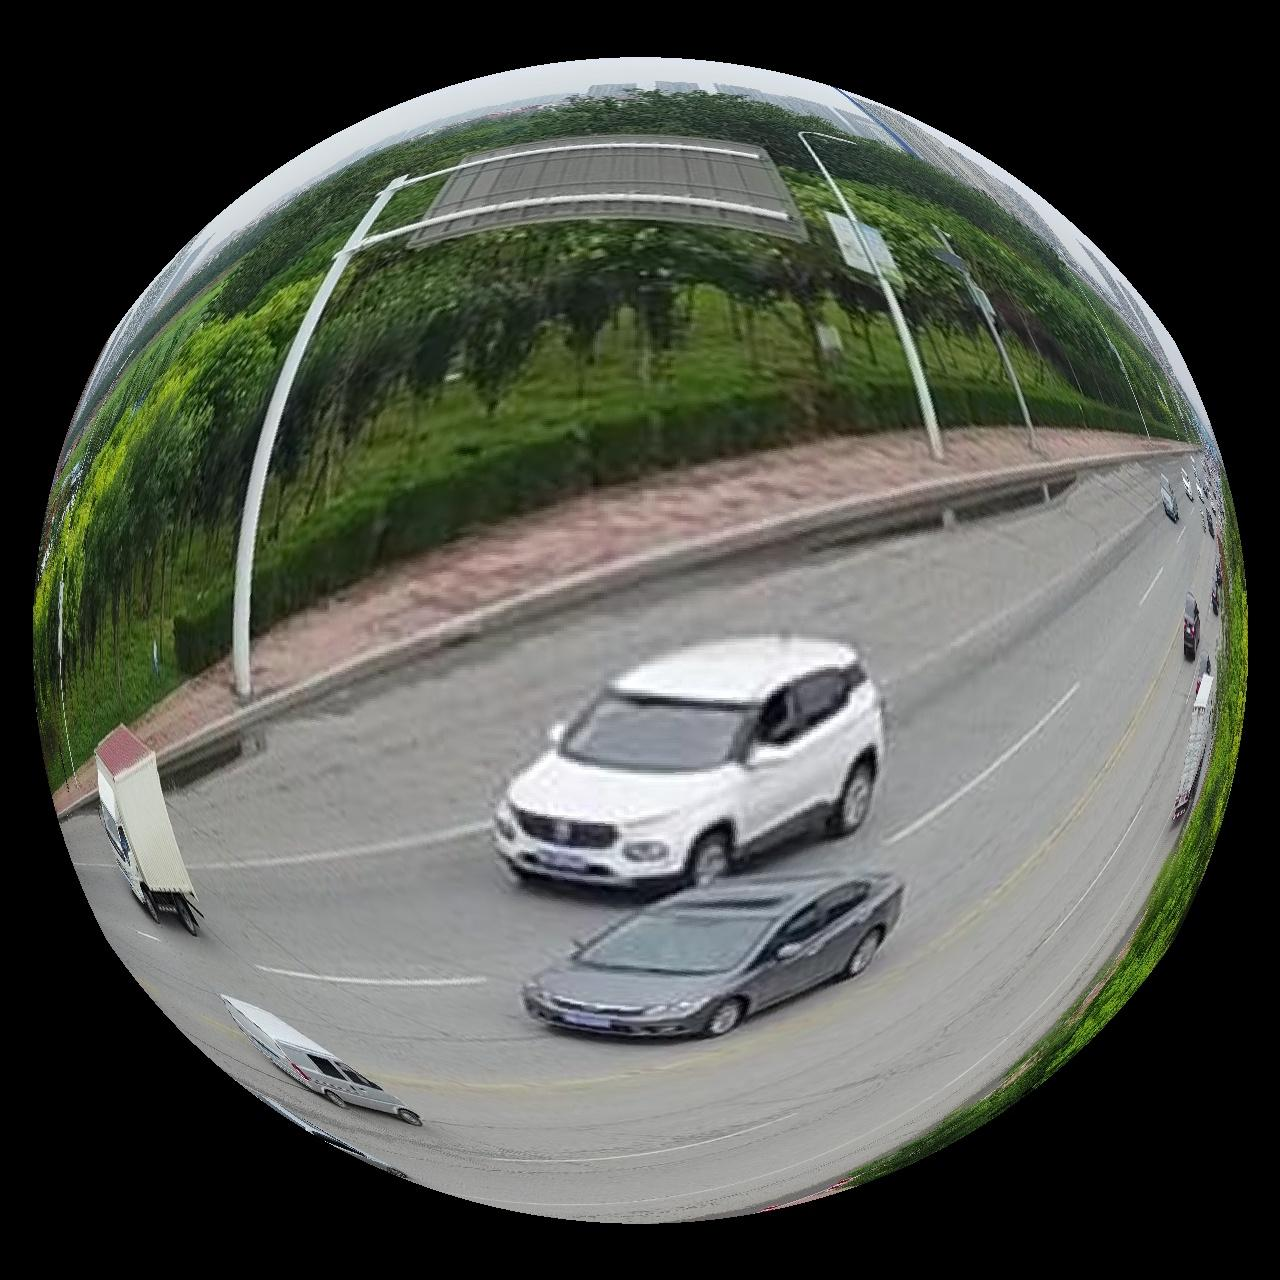cars: (493, 636, 887, 886), (522, 873, 906, 1040), (219, 996, 422, 1129), (93, 726, 202, 937), (1175, 672, 1219, 821), (1186, 592, 1203, 661), (1162, 472, 1182, 523)
trees: (34, 90, 922, 783), (808, 815, 1218, 1200), (818, 132, 1196, 440), (1192, 508, 1250, 842)
